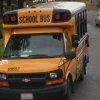Bus: (4, 4, 94, 86)
